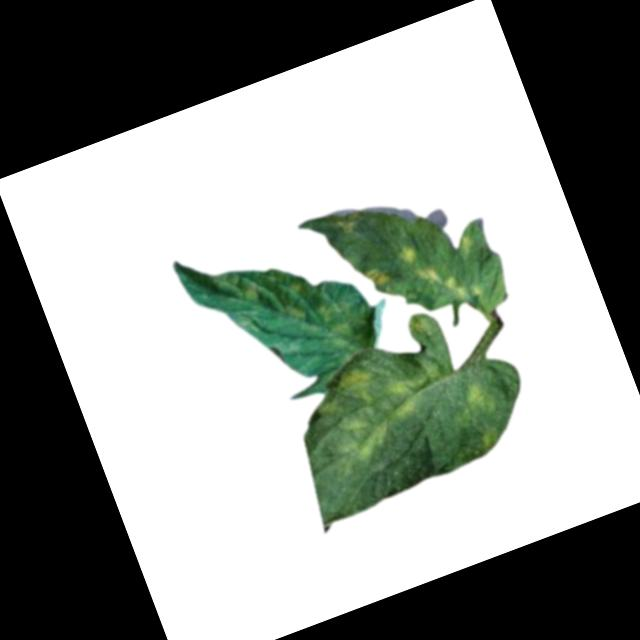Leaf_Mold: (308, 348, 443, 471), (313, 288, 386, 368), (242, 261, 317, 334), (447, 376, 512, 455), (442, 268, 482, 305), (365, 261, 395, 290), (334, 206, 364, 232), (416, 260, 443, 287), (395, 240, 420, 267), (455, 230, 478, 256)
